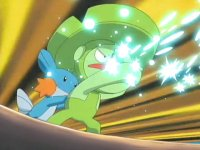mudkip: (16, 50, 79, 120)
